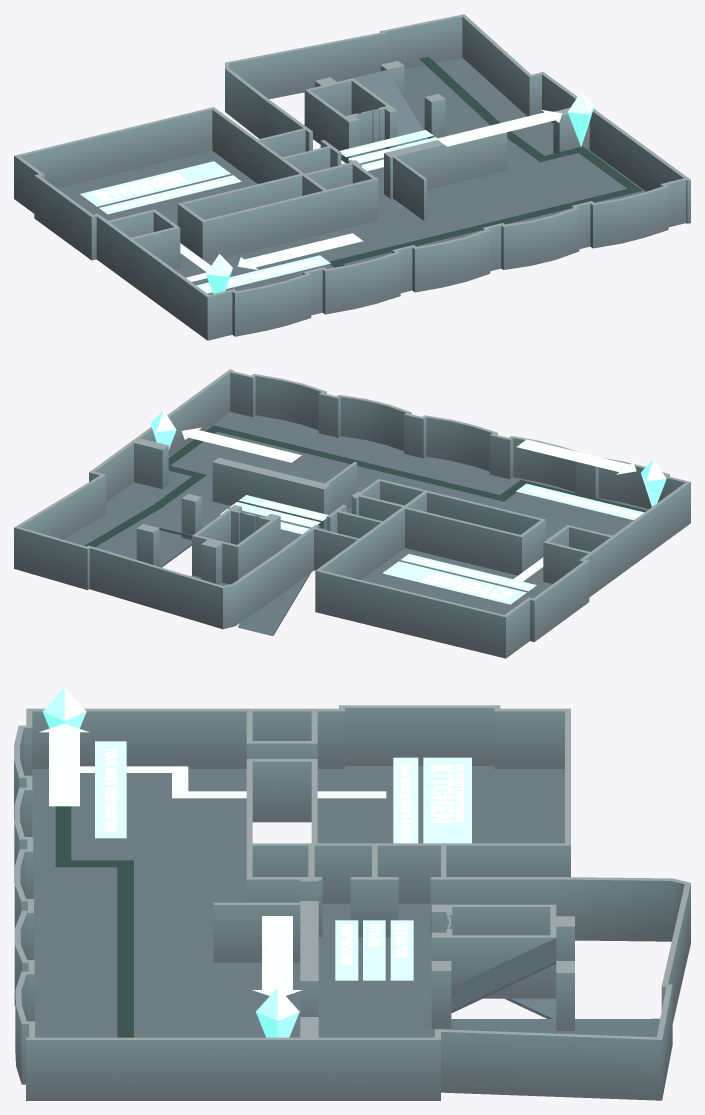
Rendered from SM_ENV_XRStudio_merged_x1_emissivetest.glb.
3 renders of one model, top to bottom at view 1: azimuth 30°, elevation 25°; view 2: azimuth 150°, elevation 25°; view 3: azimuth 270°, elevation 25°, orthographic. The views are drawn at different scales.
Visible parts, largest first — view 1: SM_ENV_XRStudio_merged_x1_emissivetest; view 2: SM_ENV_XRStudio_merged_x1_emissivetest; view 3: SM_ENV_XRStudio_merged_x1_emissivetest.
Part boxes in pixels (bbox=[...]): SM_ENV_XRStudio_merged_x1_emissivetest: bbox=[14, 14, 690, 340]; SM_ENV_XRStudio_merged_x1_emissivetest: bbox=[14, 369, 690, 658]; SM_ENV_XRStudio_merged_x1_emissivetest: bbox=[14, 687, 690, 1100].
Size of the model in its own units: 0.0149 by 0.00327 by 0.0127.
Materials: 2 (1 with a texture image).
